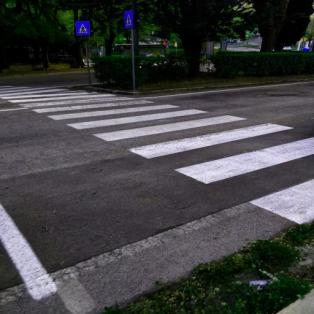Paso de Cebra: (82, 112, 301, 164)
